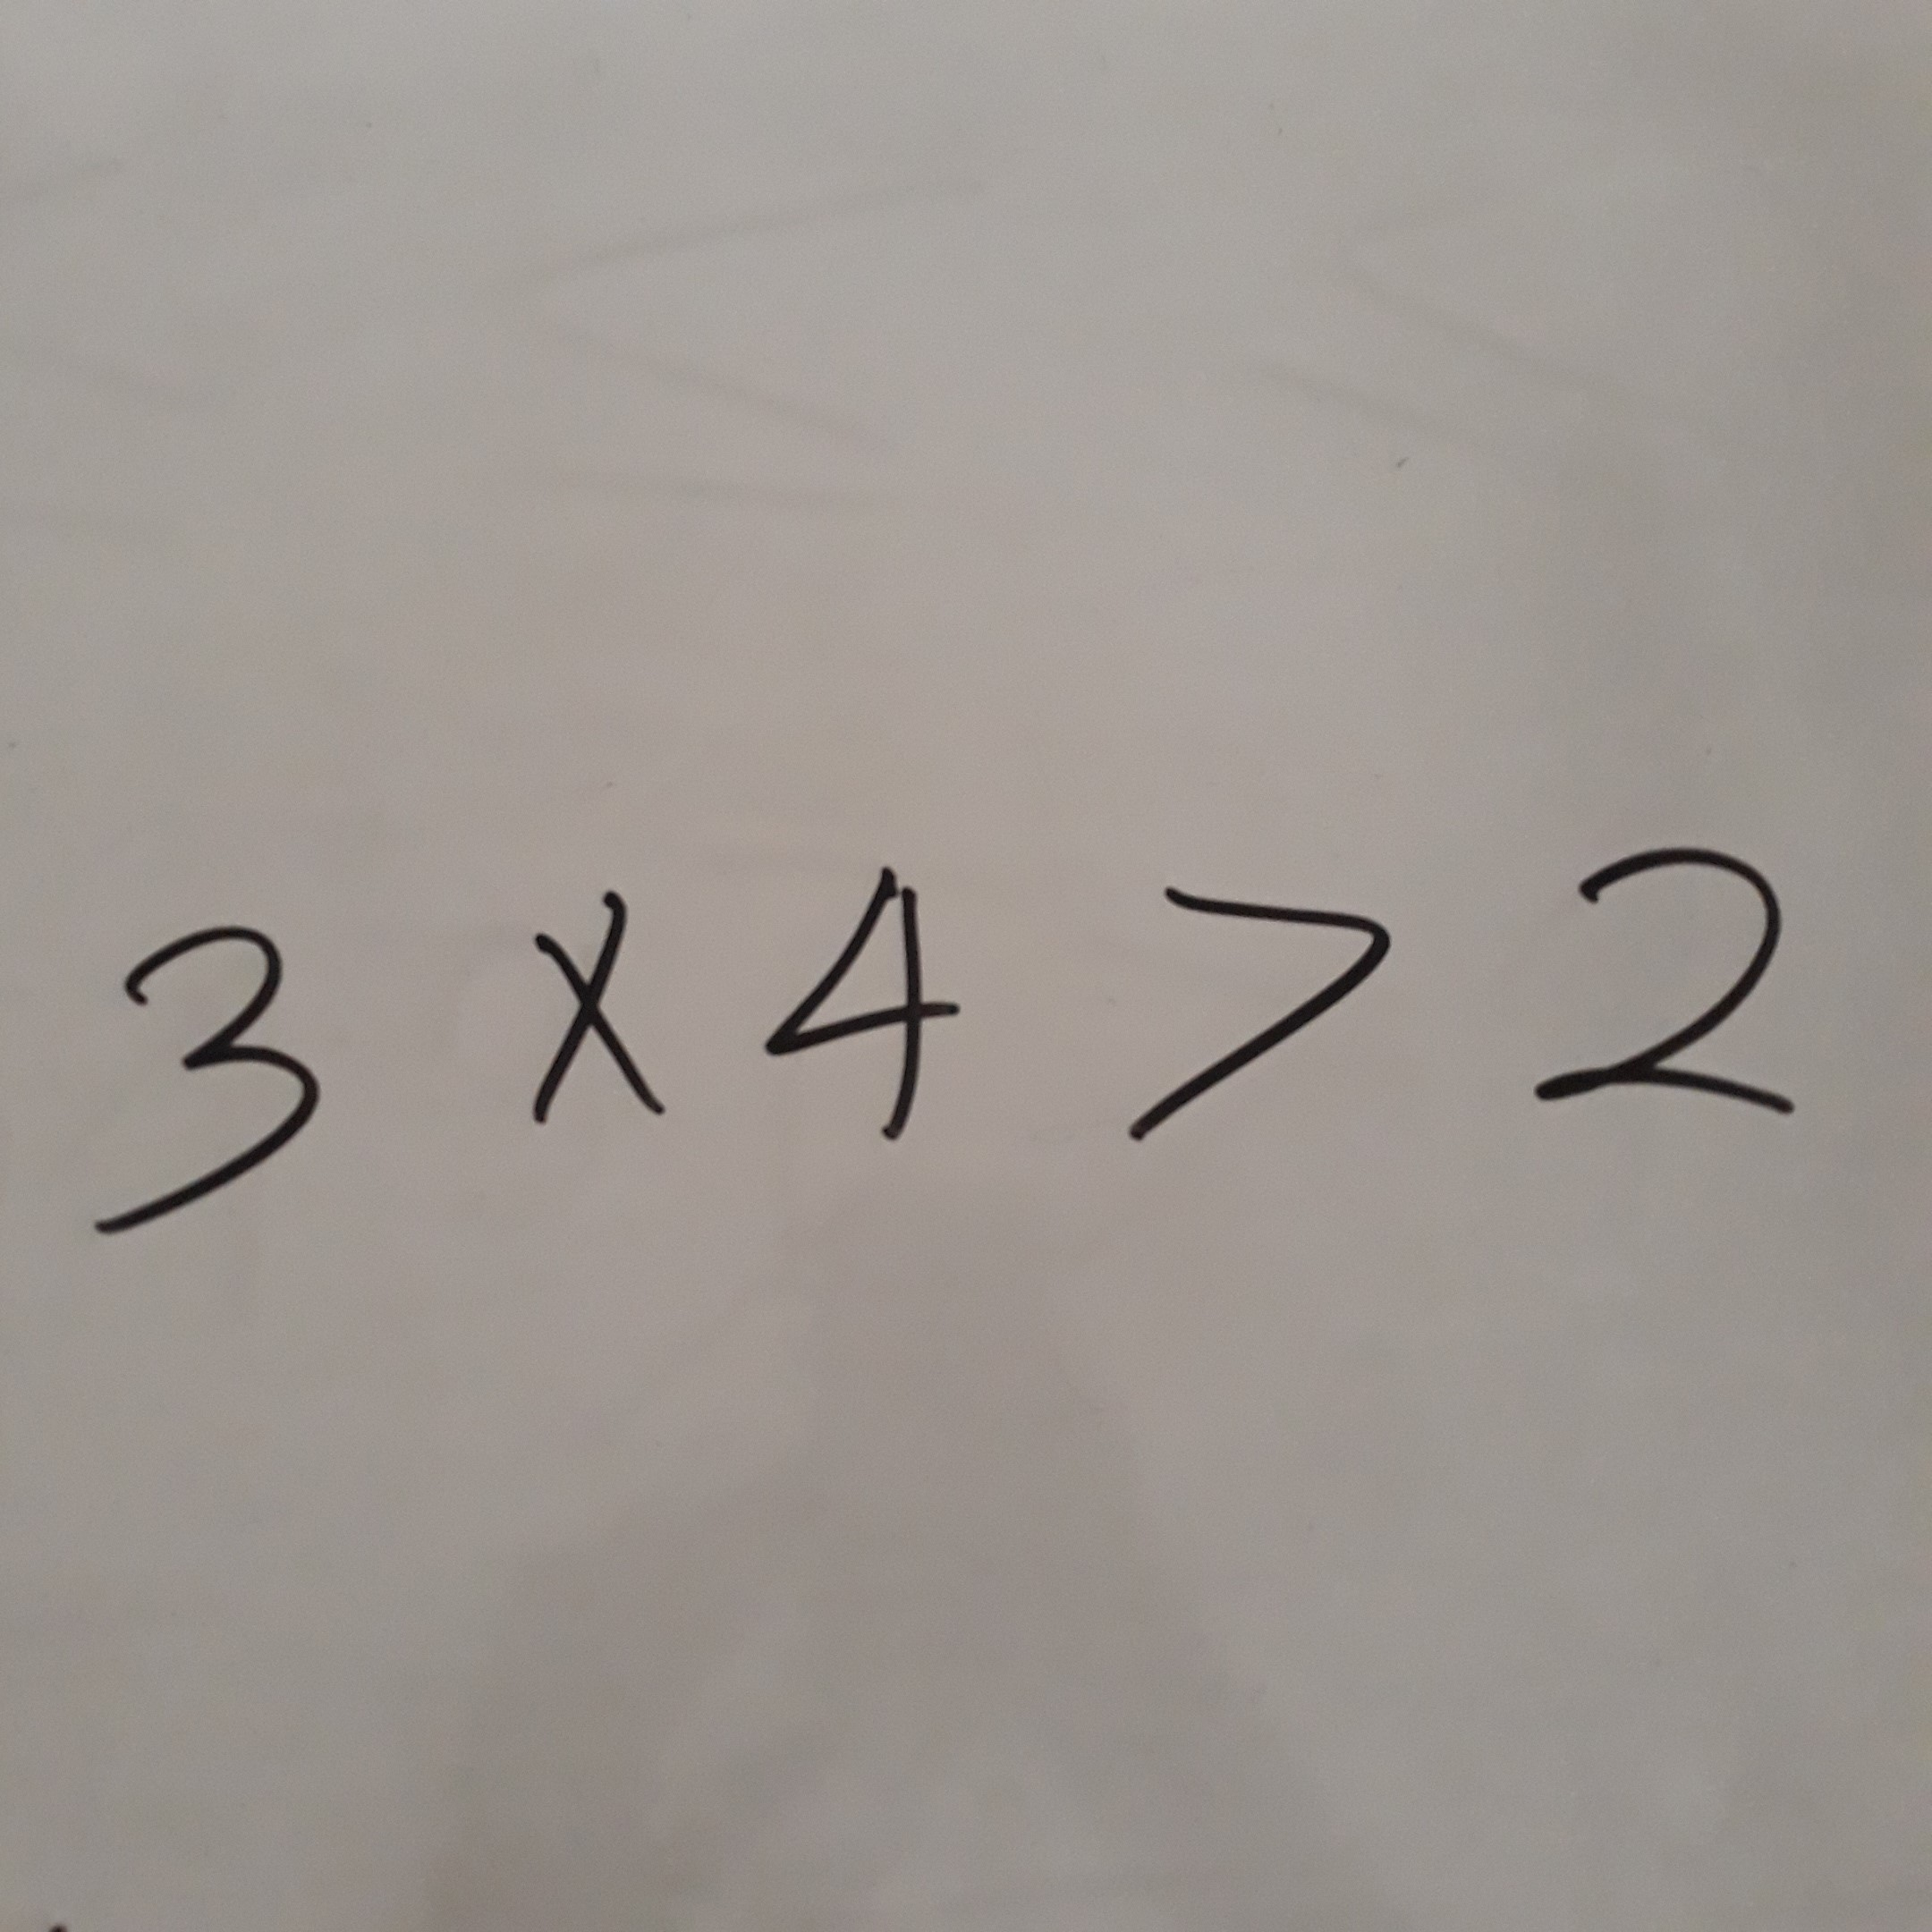morethan: (1112, 837, 1407, 1152)
multi: (487, 851, 707, 1171)
num2: (1523, 824, 1818, 1139)
num3: (65, 902, 340, 1251)
num4: (753, 845, 973, 1165)
